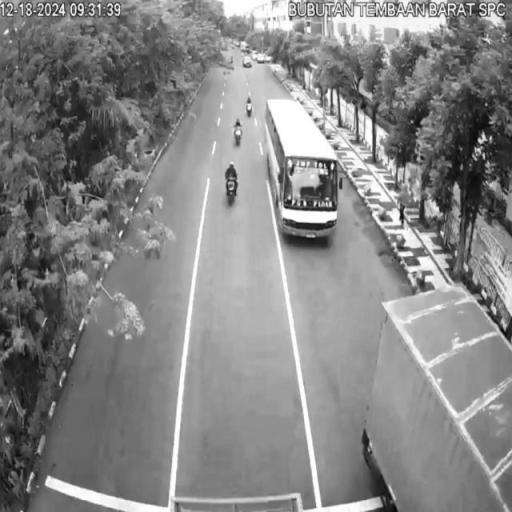bus: (266, 102, 338, 245)
motorcycle: (226, 175, 236, 208)
truck: (366, 287, 512, 512)
